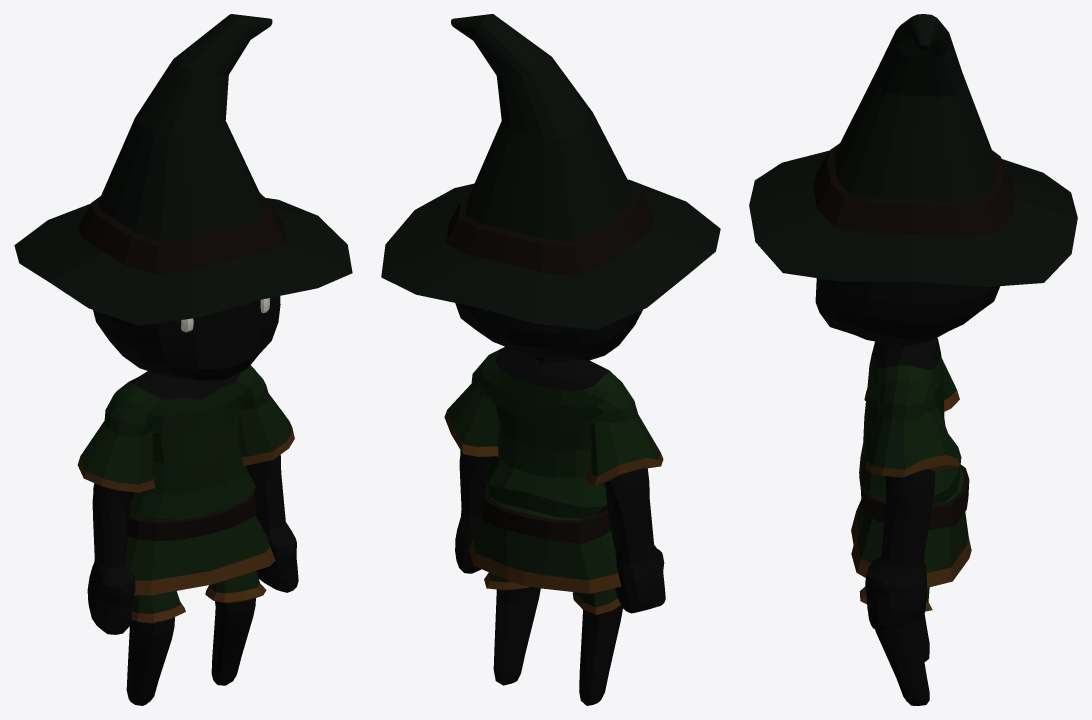
File: Elf.obj
The picture shows the model from 3 angles, left to right: view 1: azimuth 30°, elevation 25°; view 2: azimuth 150°, elevation 25°; view 3: azimuth 270°, elevation 25°; orthographic projection. The views are drawn at different scales.
Visible parts, largest first — view 1: Body_Cube.004; view 2: Body_Cube.004; view 3: Body_Cube.004.
Boxes of the visible parts, <box> form: Body_Cube.004: <box>14,14,352,705</box>; Body_Cube.004: <box>381,14,720,705</box>; Body_Cube.004: <box>749,14,1077,705</box>.
Size of the model in its own units: 1.73 by 4.06 by 1.73.
